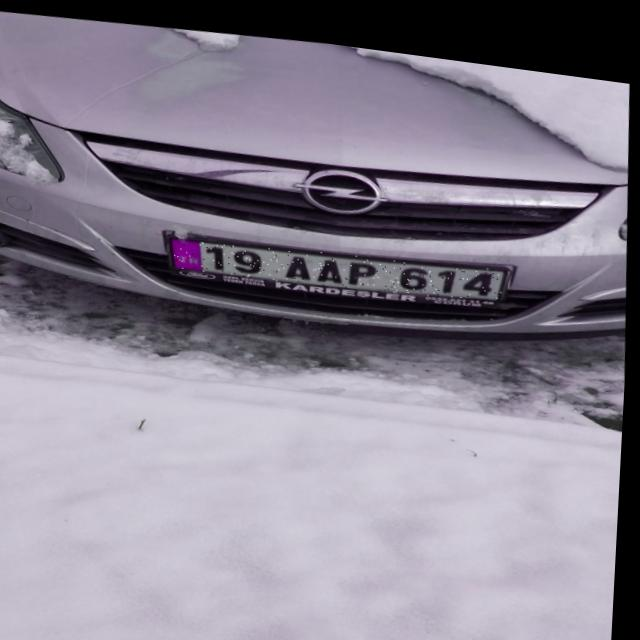license_plate: (168, 220, 511, 301)
